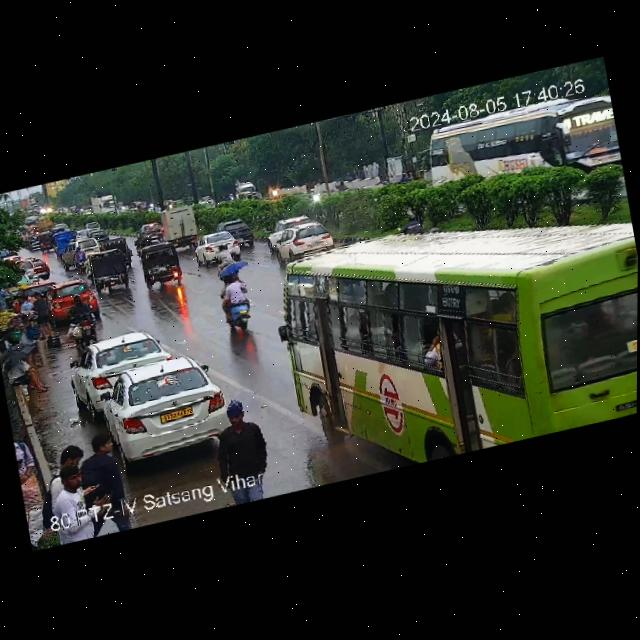bus: (265, 178, 638, 490), (421, 81, 622, 206)
car: (93, 352, 233, 470), (70, 324, 171, 402), (270, 217, 342, 265), (135, 240, 184, 291), (46, 280, 102, 322), (87, 244, 134, 291), (263, 210, 313, 248), (58, 234, 100, 269), (217, 213, 255, 248), (198, 228, 237, 262), (14, 255, 40, 284), (135, 218, 163, 242), (29, 254, 51, 281)
motorcycle: (213, 256, 259, 337), (271, 217, 334, 260), (63, 288, 97, 344), (73, 245, 91, 269), (70, 246, 85, 274)
person: (211, 396, 278, 507), (82, 429, 136, 537), (55, 460, 99, 543), (0, 347, 46, 400), (12, 311, 44, 371), (30, 288, 56, 342), (52, 436, 80, 468), (13, 294, 32, 315)
truck: (158, 202, 206, 252)
